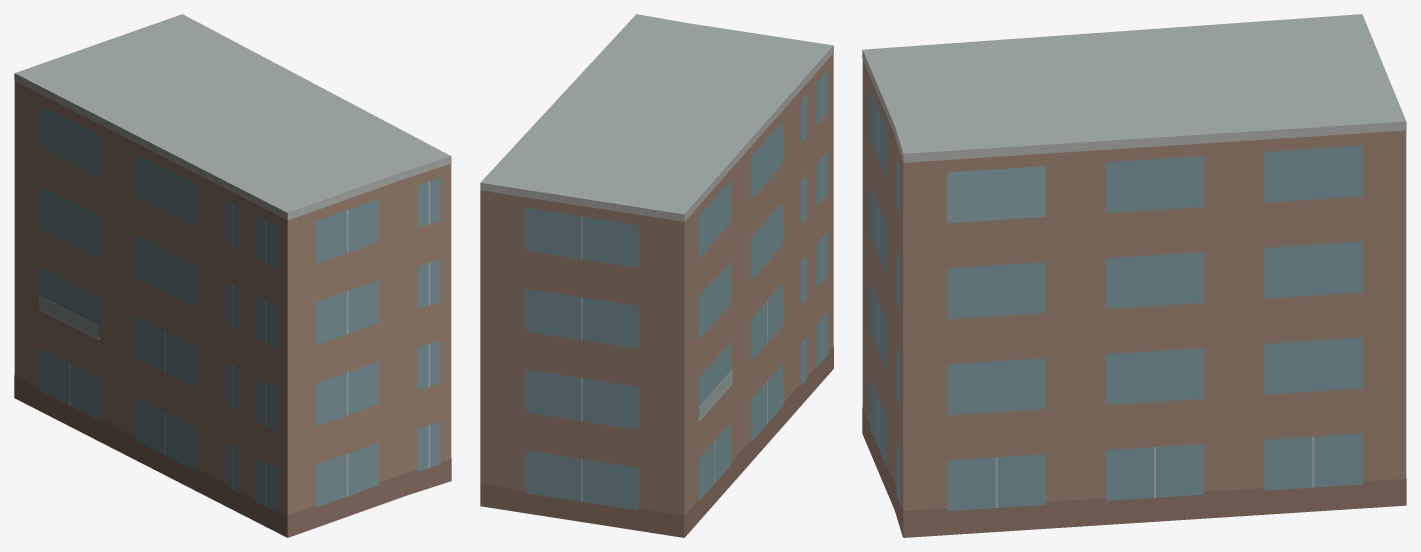
Rendered from survey-upis-32772457.glb.
3 renders of one model, left to right at view 1: azimuth 30°, elevation 25°; view 2: azimuth 150°, elevation 25°; view 3: azimuth 270°, elevation 25°, orthographic. The views are drawn at different scales.
Parts seen in each view (by area): view 1: survey-upis-32772457.tmp; view 2: survey-upis-32772457.tmp; view 3: survey-upis-32772457.tmp.
Part boxes in pixels (x1,y1,x2,y2): survey-upis-32772457.tmp: (14, 14, 451, 537); survey-upis-32772457.tmp: (480, 14, 833, 537); survey-upis-32772457.tmp: (862, 14, 1406, 537).
Size of the model in its own units: 8.26 by 10.56 by 13.57.
